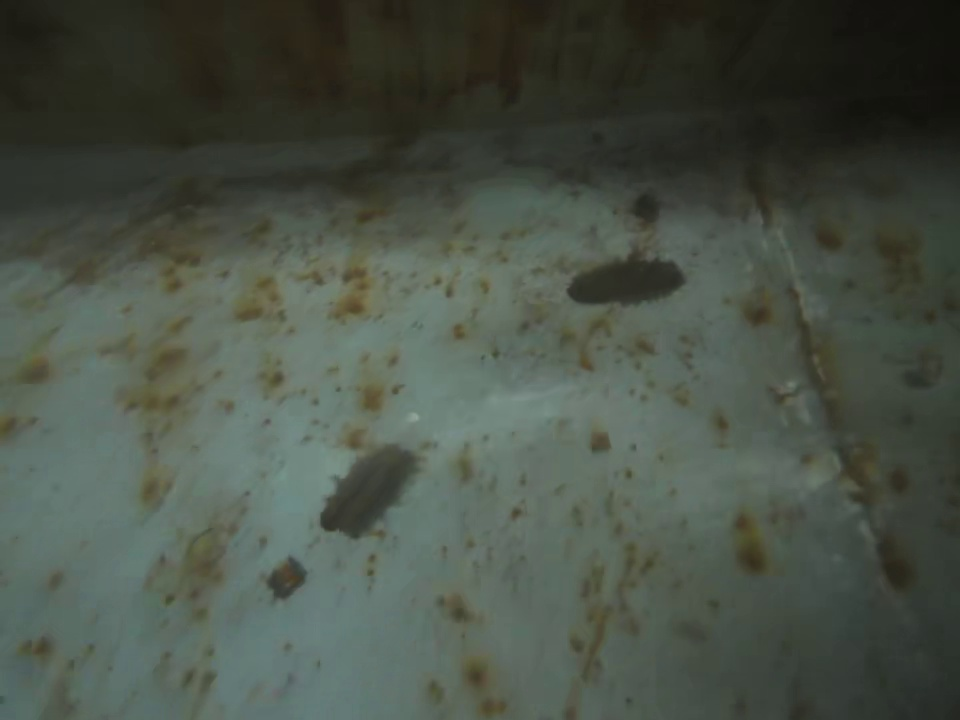seacucumber: (318, 440, 416, 538), (564, 254, 695, 311)
